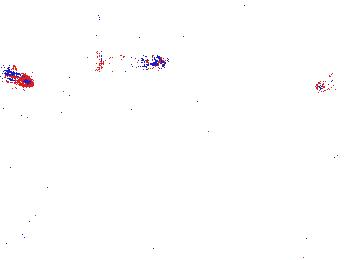X-ray fish: (17, 71, 89, 111)
red belly glassfish: (1, 63, 34, 87), (315, 71, 346, 96)
redtail glassfish: (93, 39, 174, 76)
